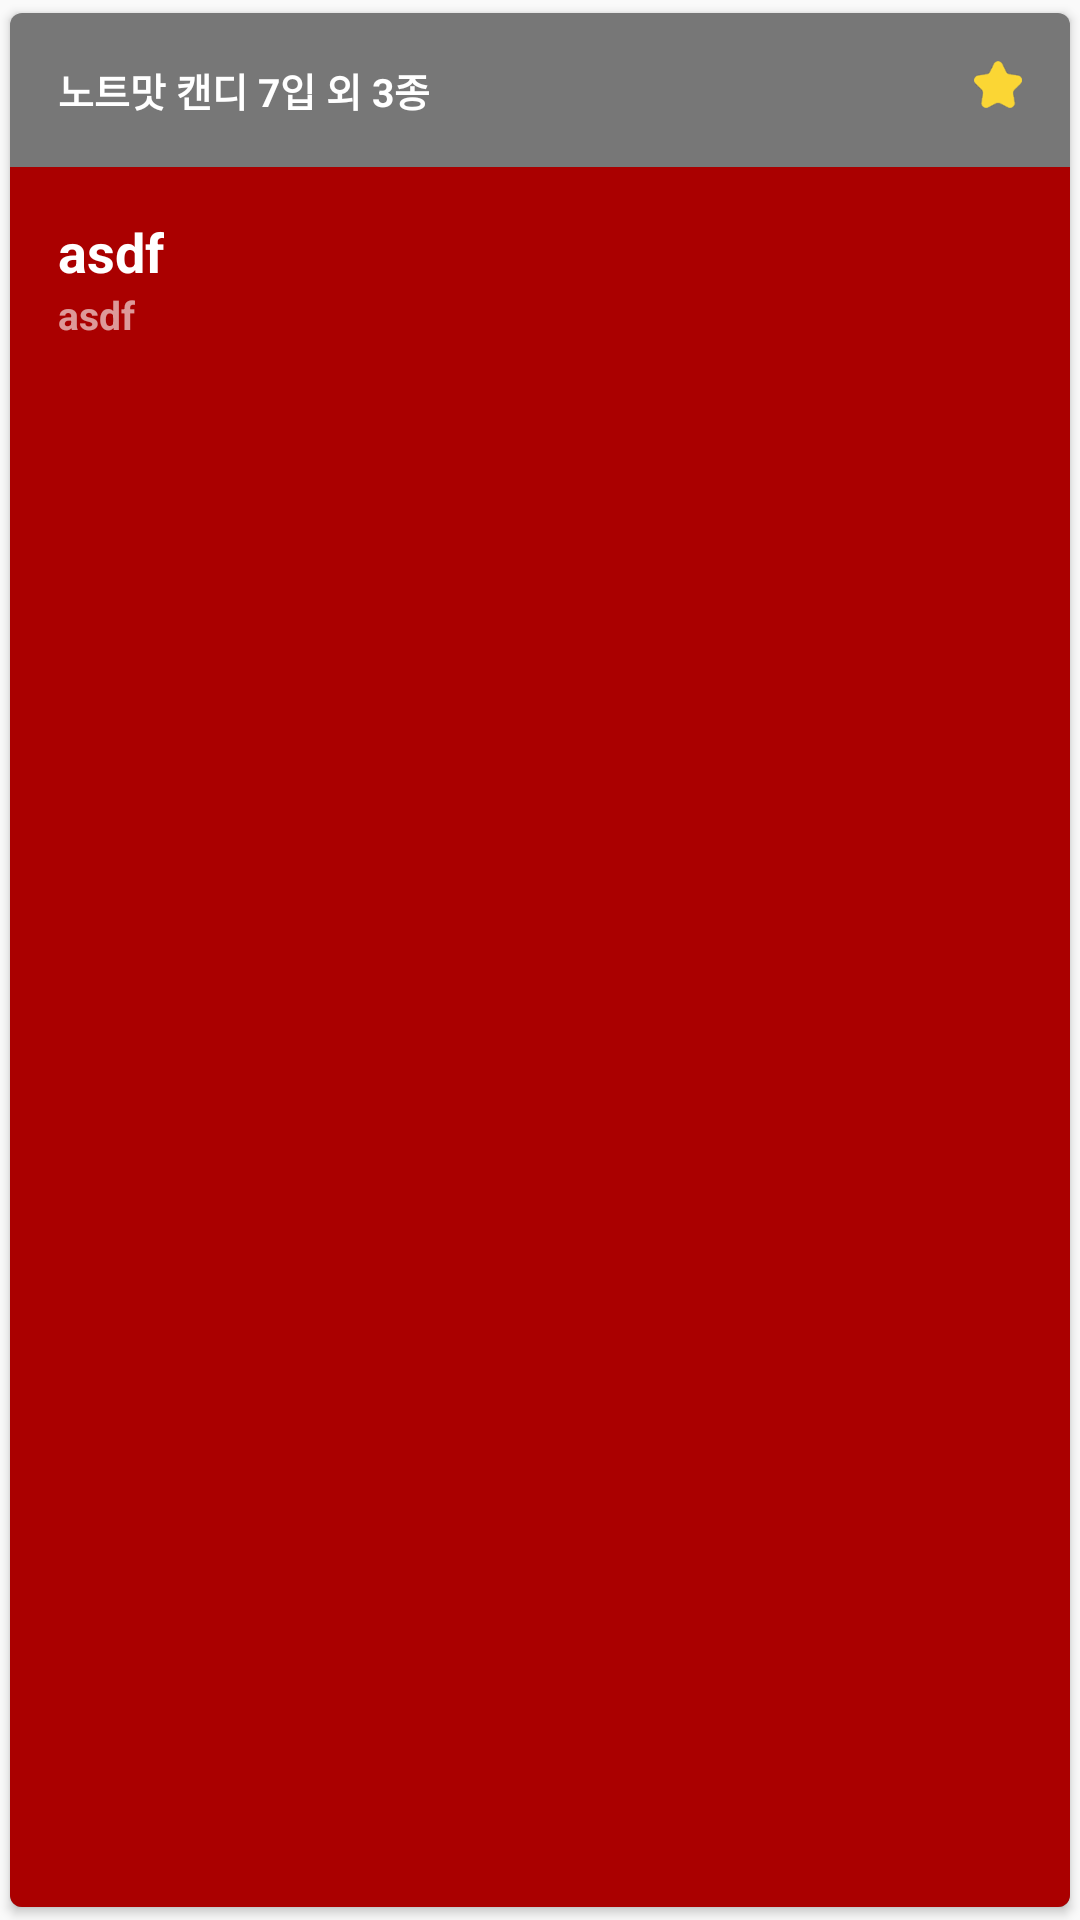

Screen size 1080×1920. Icon name, then its center in pixels as point (x, y):
groupmemo star on: point (998, 84)
